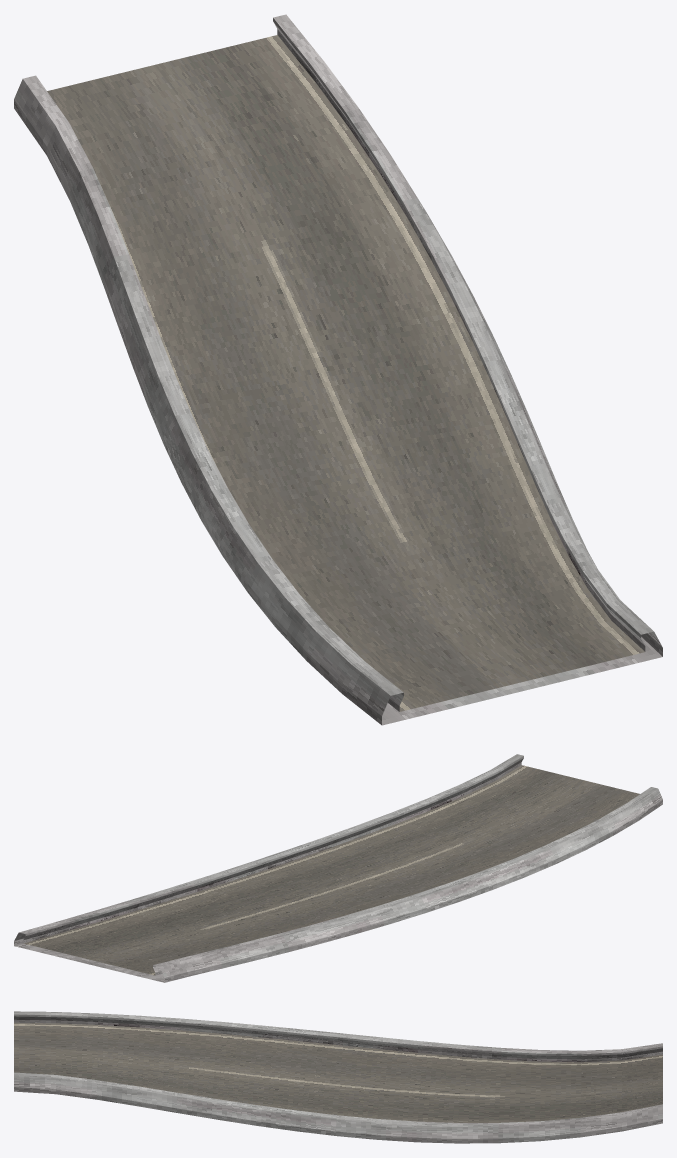
File: road-Chicane-Flat-BiSlopeUp-Up1-Right1-Size4.glb
The picture shows the model from 3 angles, top to bottom: view 1: azimuth 30°, elevation 25°; view 2: azimuth 150°, elevation 25°; view 3: azimuth 270°, elevation 25°; orthographic projection. The views are drawn at different scales.
Visible parts, largest first — view 1: road-Chicane-Flat-BiSlopeUp-Up1-Right1-Size4; view 2: road-Chicane-Flat-BiSlopeUp-Up1-Right1-Size4; view 3: road-Chicane-Flat-BiSlopeUp-Up1-Right1-Size4.
Part boxes in pixels (x1,y1,x2,y2): road-Chicane-Flat-BiSlopeUp-Up1-Right1-Size4: (14, 14, 662, 725); road-Chicane-Flat-BiSlopeUp-Up1-Right1-Size4: (14, 754, 662, 982); road-Chicane-Flat-BiSlopeUp-Up1-Right1-Size4: (14, 1011, 662, 1143).
Bounding box in the file's own units: 2 × 0.373 × 4.
Materials: 2 (2 with a texture image).
